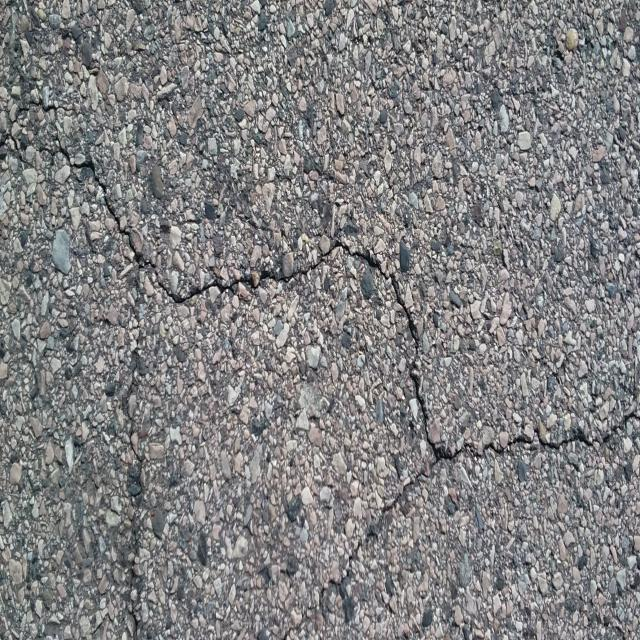Crack: (0, 132, 640, 640), (4, 98, 83, 147)
